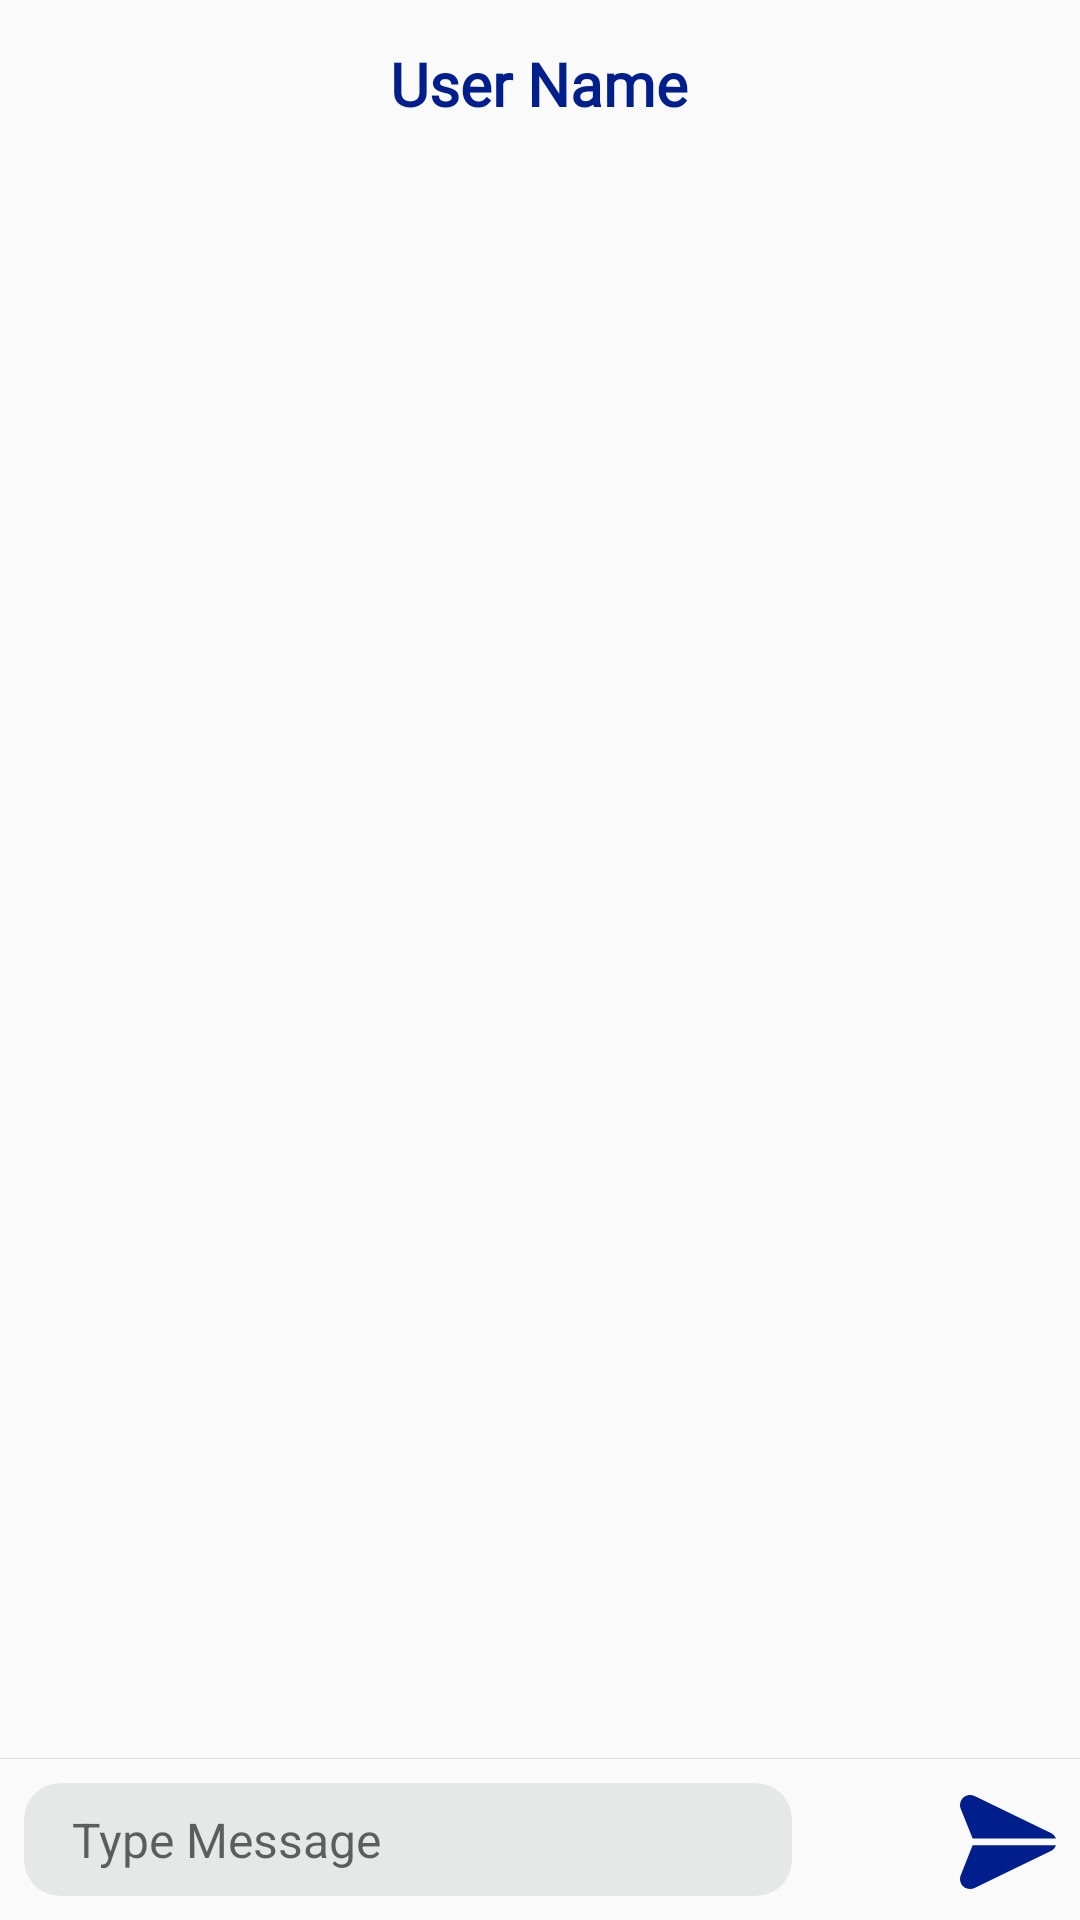

Named icons in this screenshot (1080×1920) and their bounding boxes, (x1, y1, x2, y2):
send: (960, 1795, 1056, 1889)
